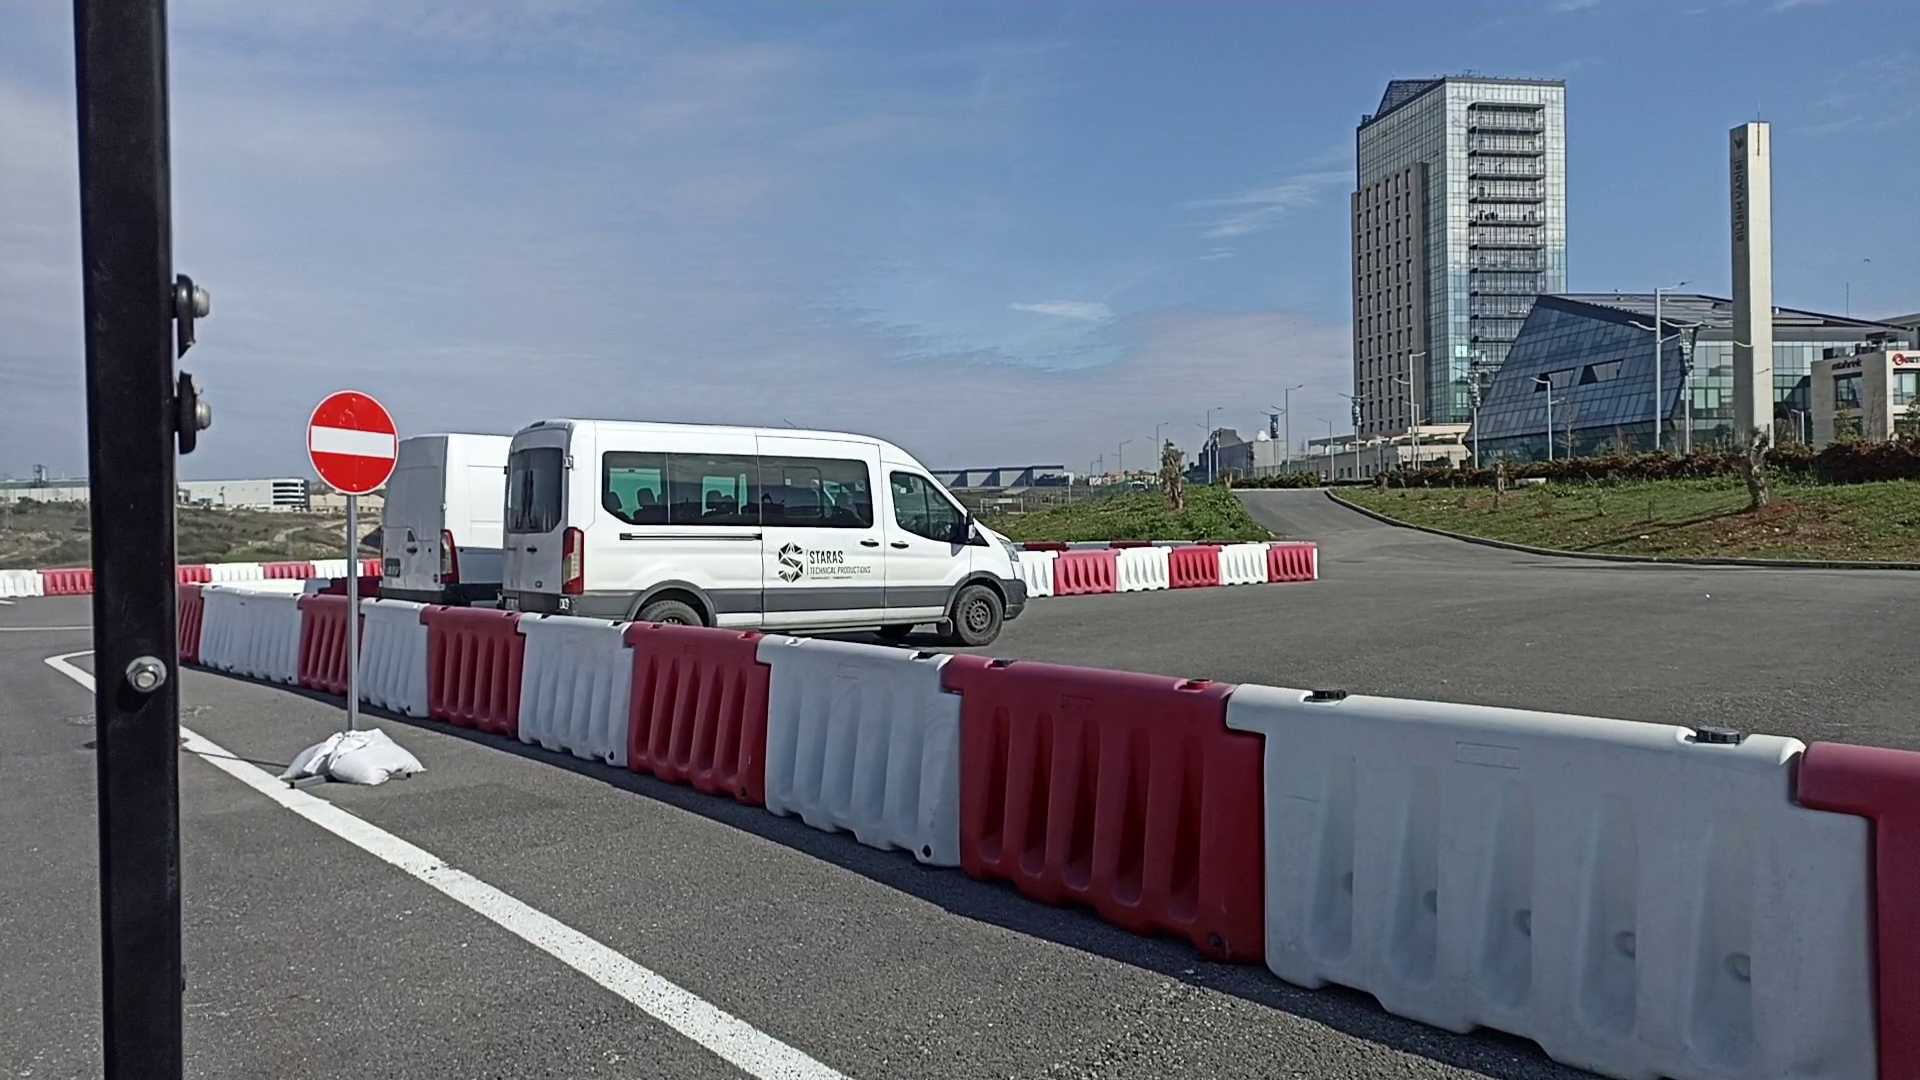noentryway: (305, 386, 402, 498)
